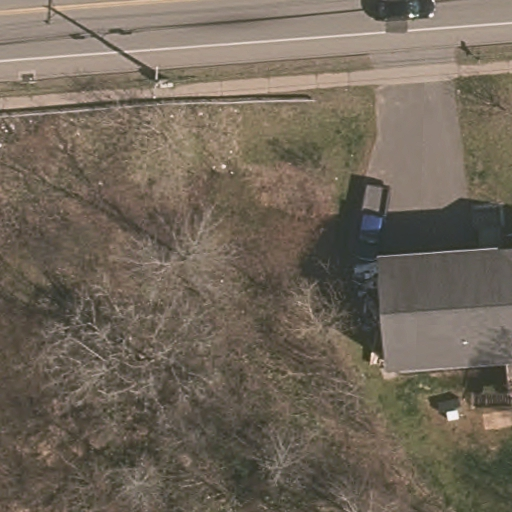DT: (137, 58, 174, 101)
